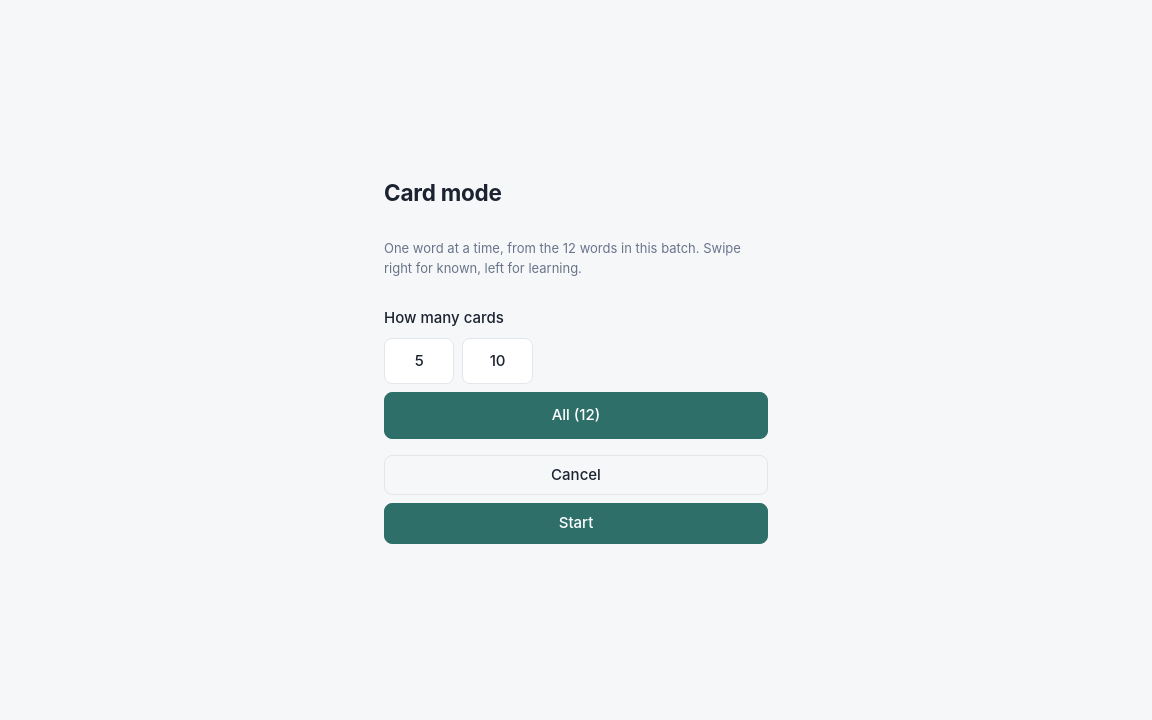
CardMode intro › deals only the chosen number of cards
Click the button "5". click: (419, 361)
box: [384, 338, 454, 384]
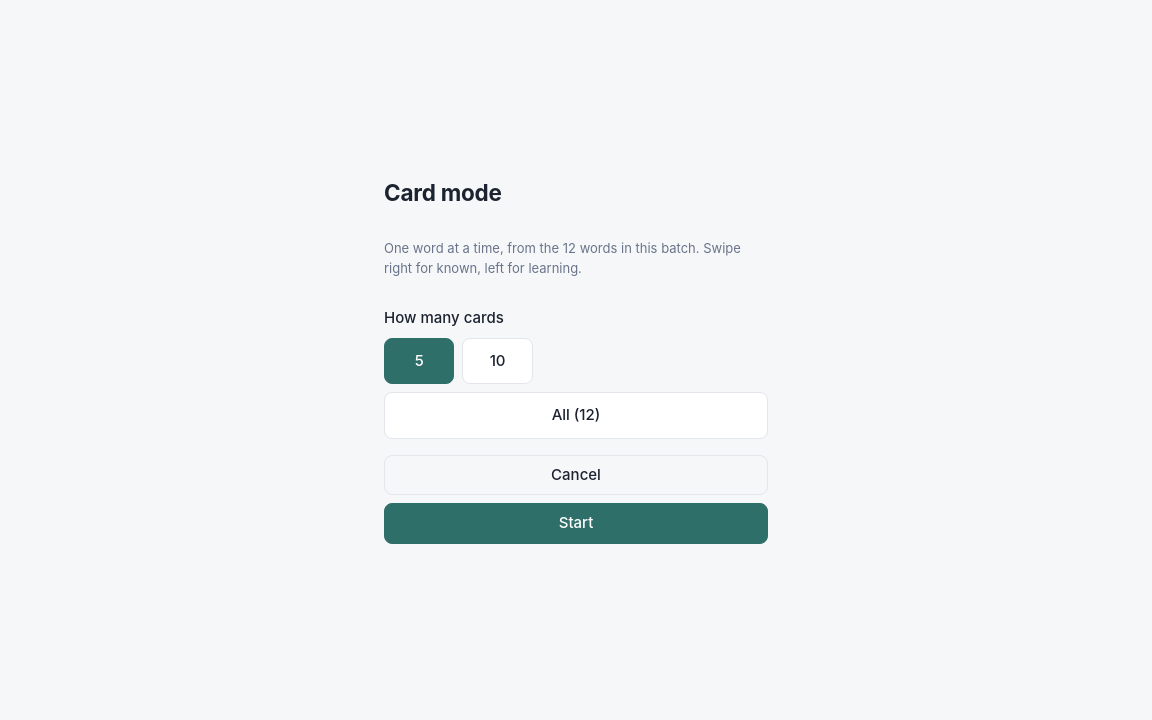
Click the button "Start". click: (576, 523)
box: [384, 503, 768, 544]
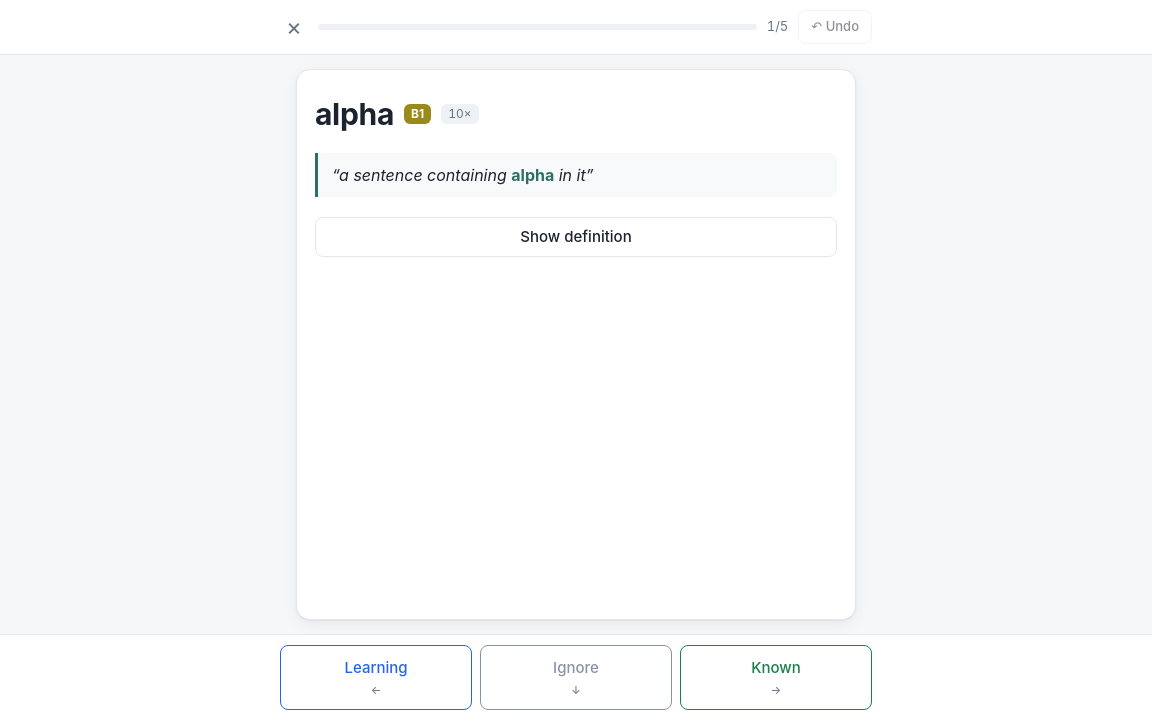
Check: the heading "alpha" is shown, box [315, 92, 394, 136]
